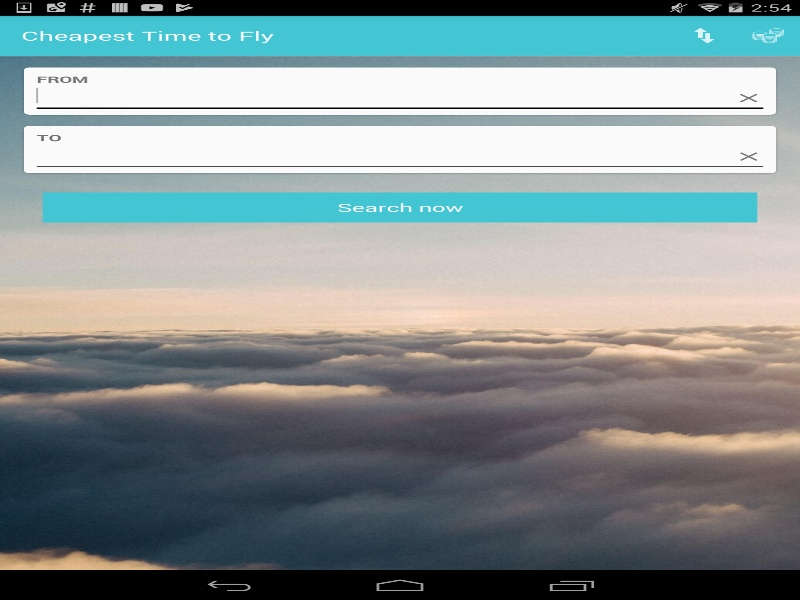Button: (42, 192, 757, 222)
Input: (31, 85, 768, 111), (31, 143, 768, 169)
